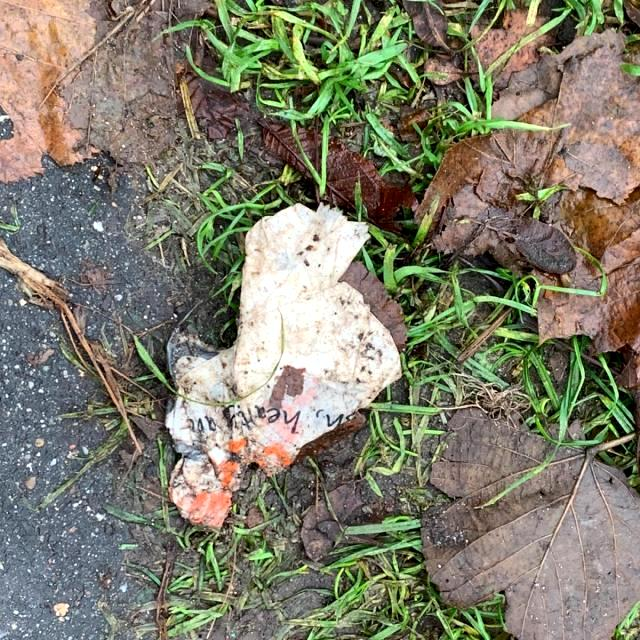Paper: (162, 198, 404, 532)
